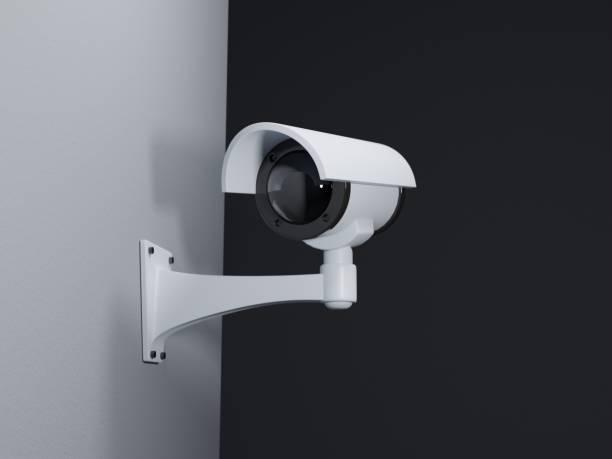camera: (206, 100, 434, 275)
